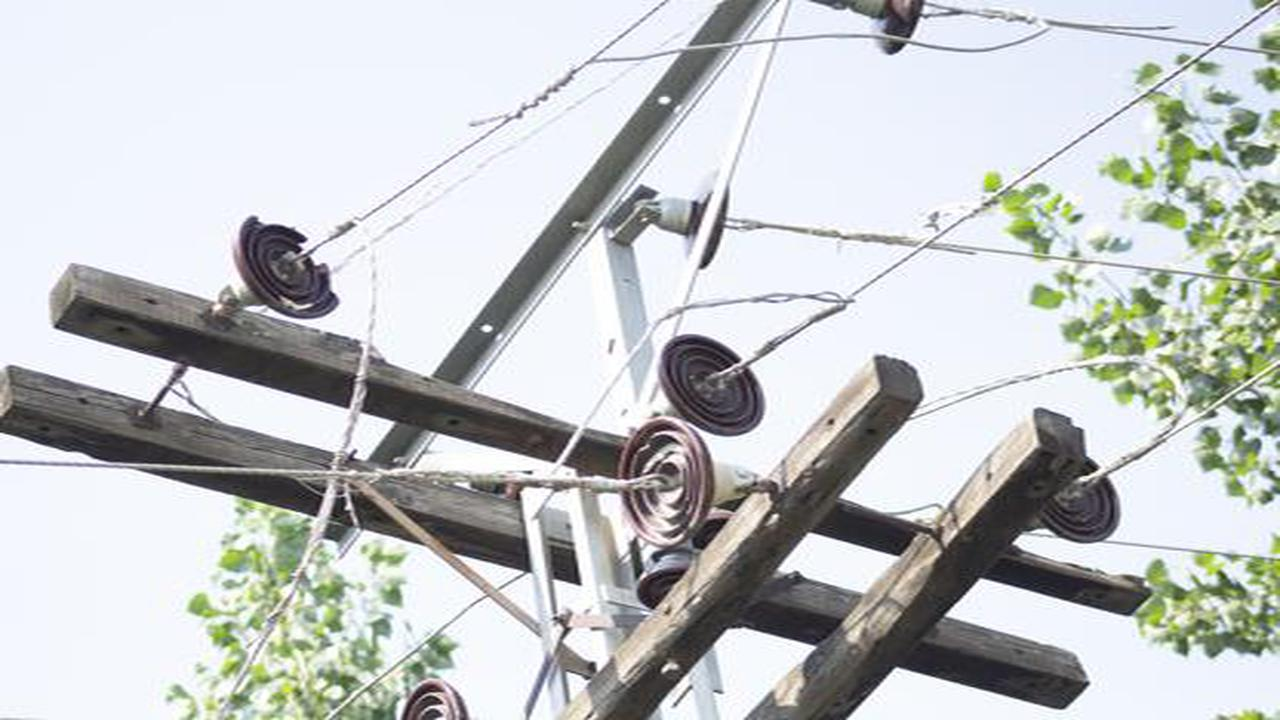defect_disc: (227, 210, 356, 337)
insulator_disc: (611, 421, 728, 551), (650, 323, 770, 440), (660, 166, 740, 273)
